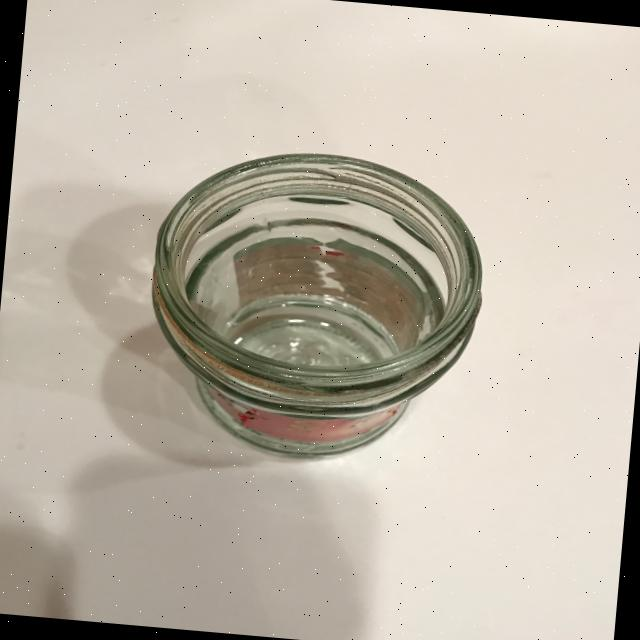glass: (135, 138, 493, 473)
